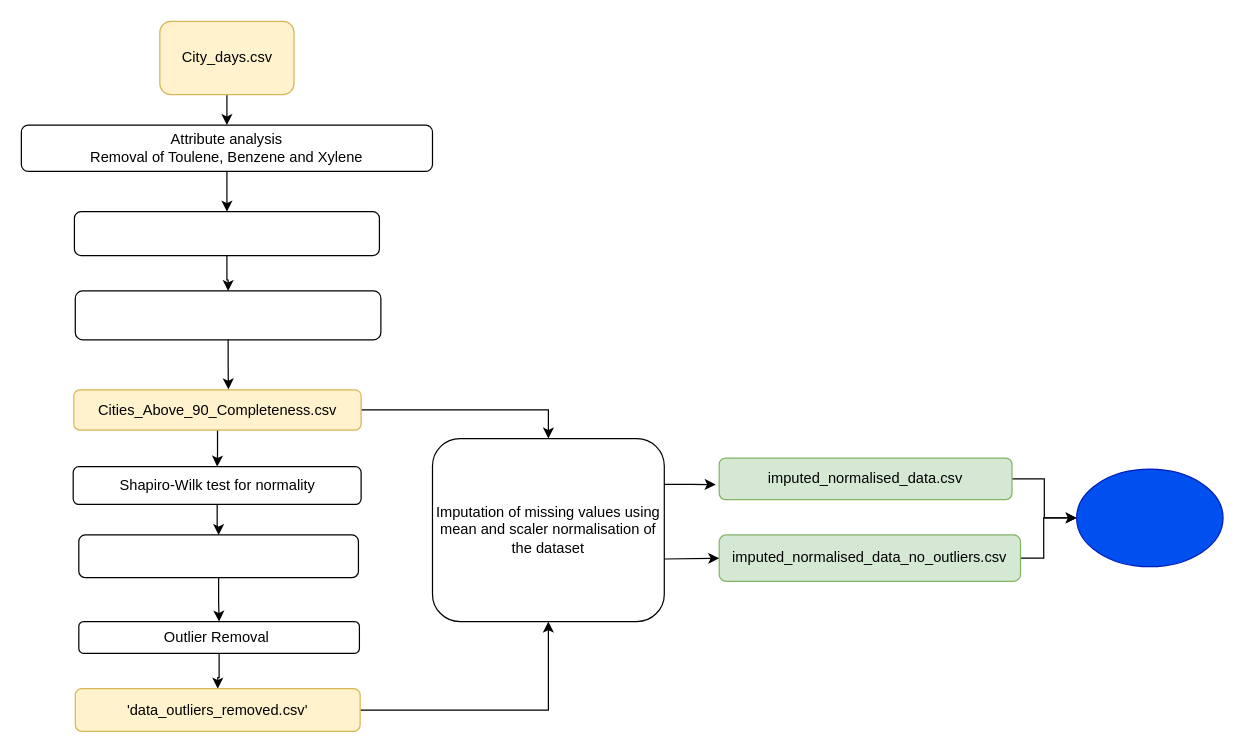
Some shapes in this 1244 by 753 pixel diagram are drawn without their labels. The box of each missing label's shape, as (x1, y1, x2, y2) in pixels:
Exclude Cities where data <90% complete: (73, 210, 379, 256)
IQR method of outlier detection: (78, 534, 358, 578)
Remove any rows with AQI values missing: (74, 290, 381, 340)
WEKA: (1075, 468, 1223, 567)
